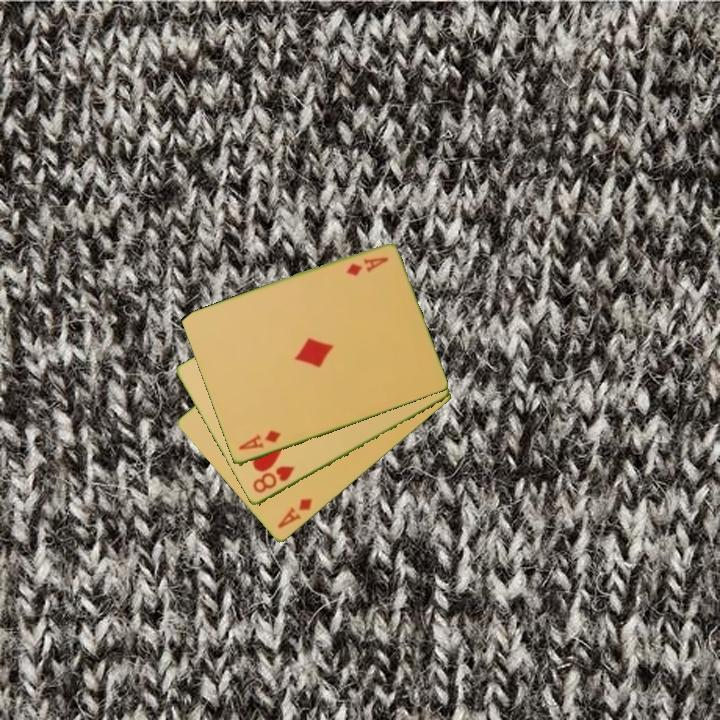8h: (249, 462, 297, 496)
Ad: (274, 495, 315, 532), (235, 427, 283, 453), (342, 254, 391, 279)
